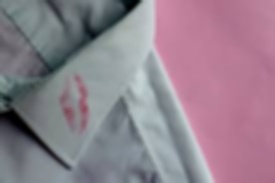lipstick: (63, 73, 93, 135)
